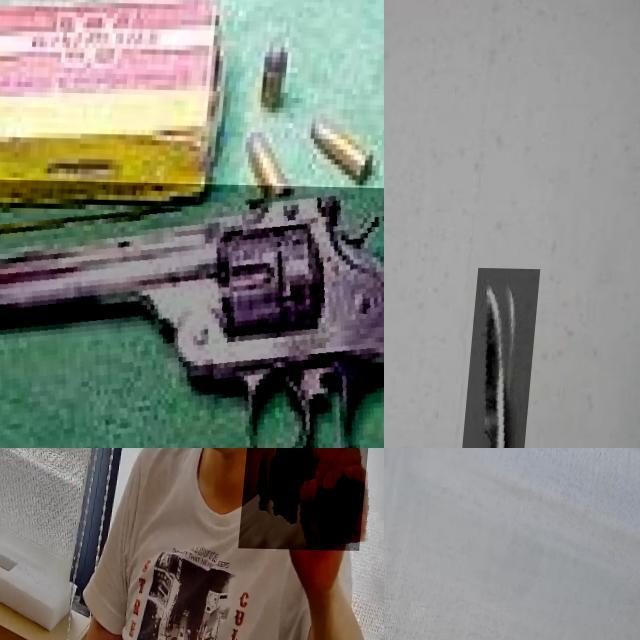-: (460, 266, 545, 448)
gun-knife-thesis - v11 Yolov5 augmented: (0, 178, 384, 448), (246, 448, 384, 606), (384, 448, 475, 636)
